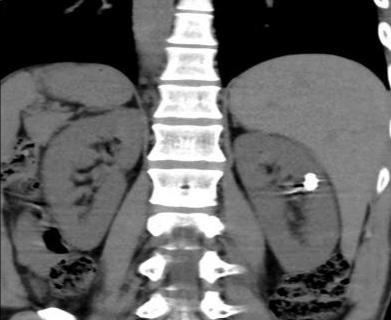Tas_Var: (302, 171, 318, 195)
